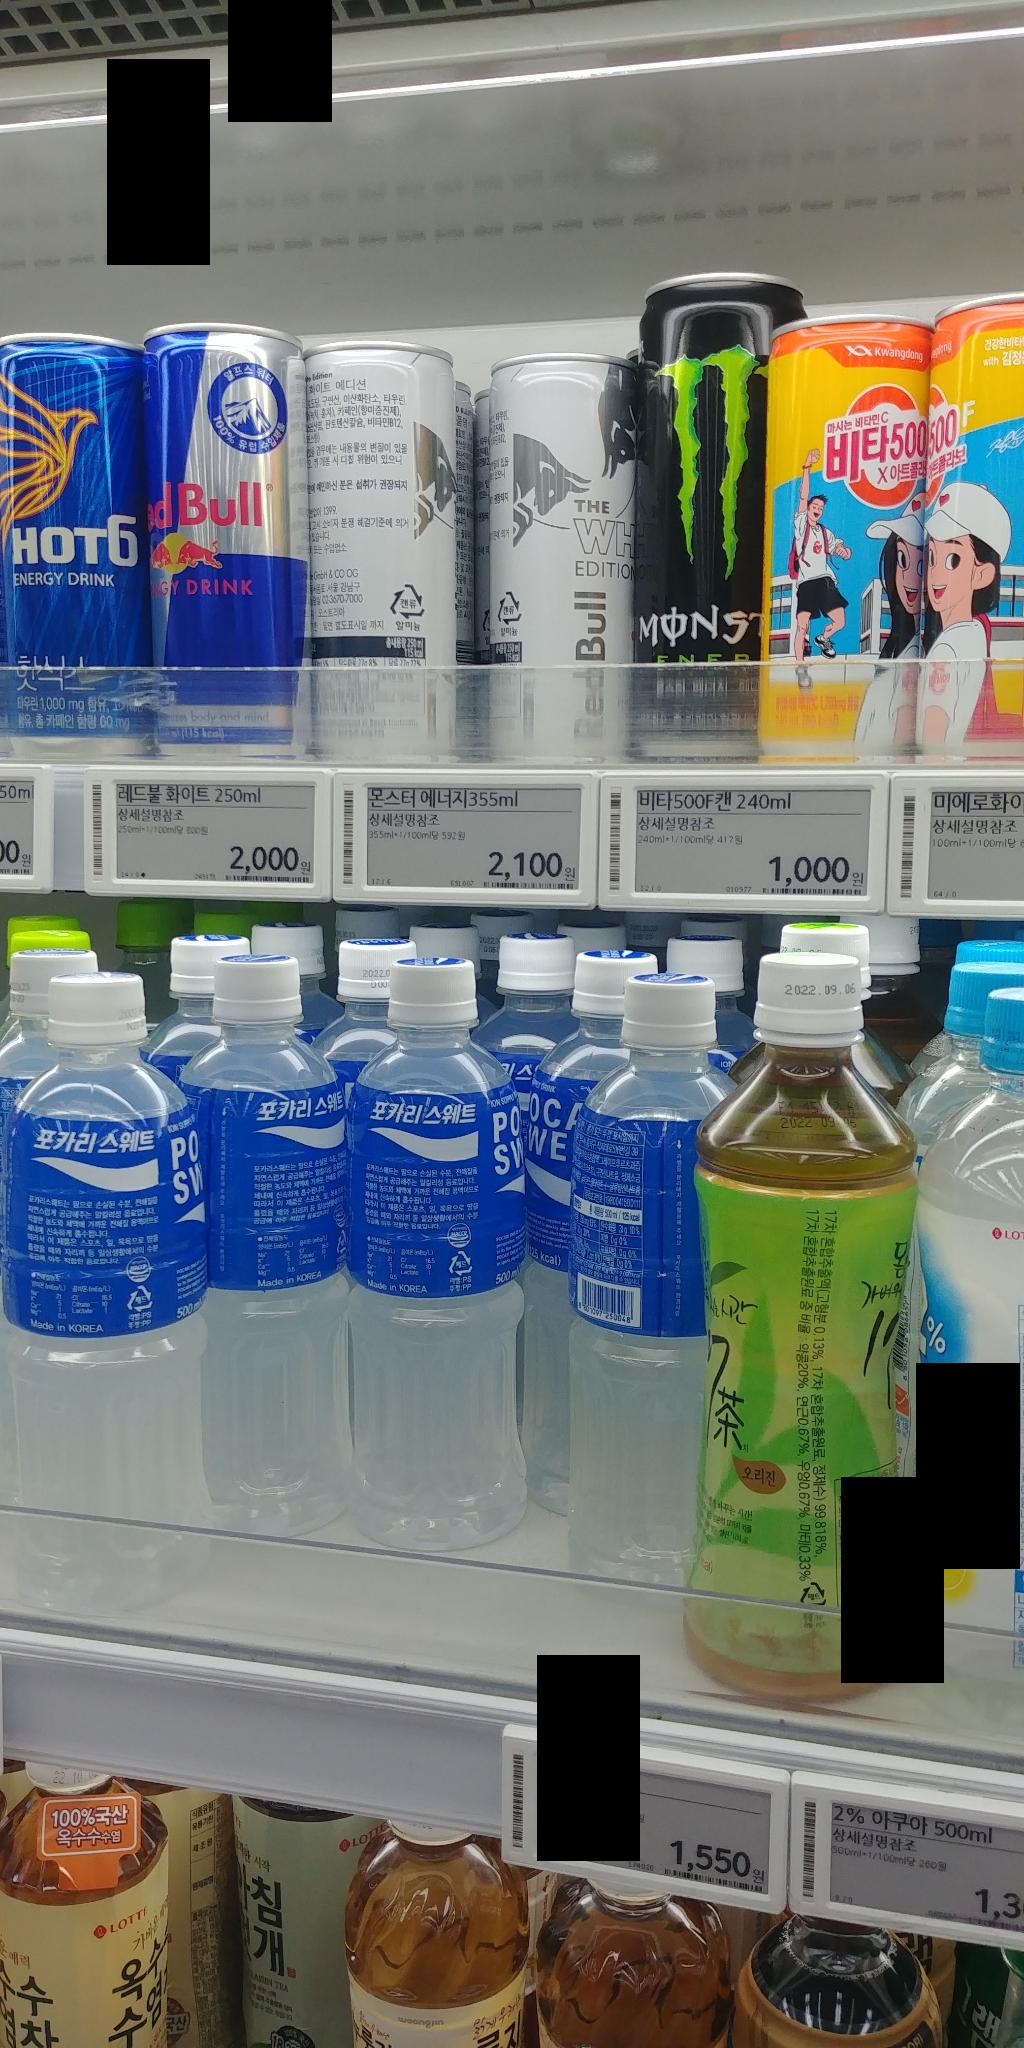hotsix_org: (0, 970, 217, 1625), (344, 953, 537, 1565), (196, 953, 354, 1543), (580, 960, 718, 1618), (0, 332, 155, 763)
